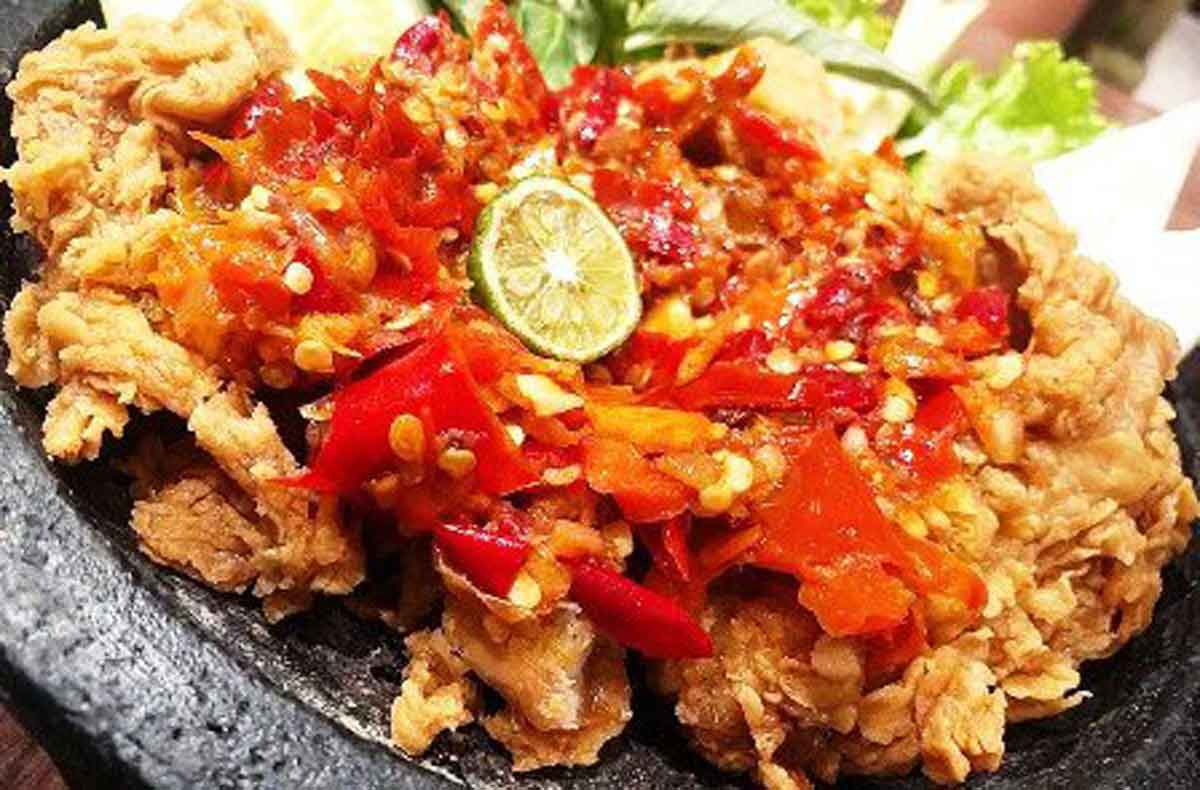ayam_geprek: (1, 19, 1157, 782)
